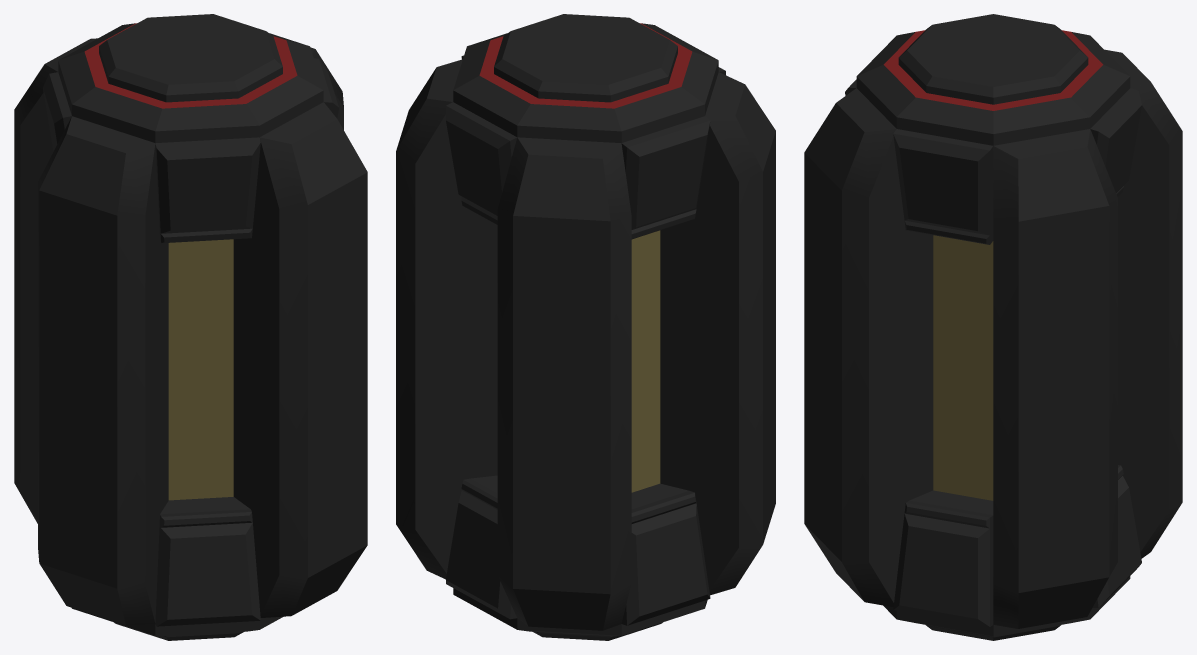
The model's file is SM_GasCylinderFBX.fbx.
The picture shows the model from 3 angles, left to right: view 1: azimuth 30°, elevation 25°; view 2: azimuth 150°, elevation 25°; view 3: azimuth 270°, elevation 25°; orthographic projection.
Visible parts, largest first — view 1: pCylinder2; view 2: pCylinder2; view 3: pCylinder2.
Part boxes in pixels (bbox=[...]): pCylinder2: bbox=[14, 14, 367, 640]; pCylinder2: bbox=[396, 14, 775, 640]; pCylinder2: bbox=[804, 14, 1182, 640].
Bounding box in the file's own units: 45.03 × 72.77 × 45.03.
